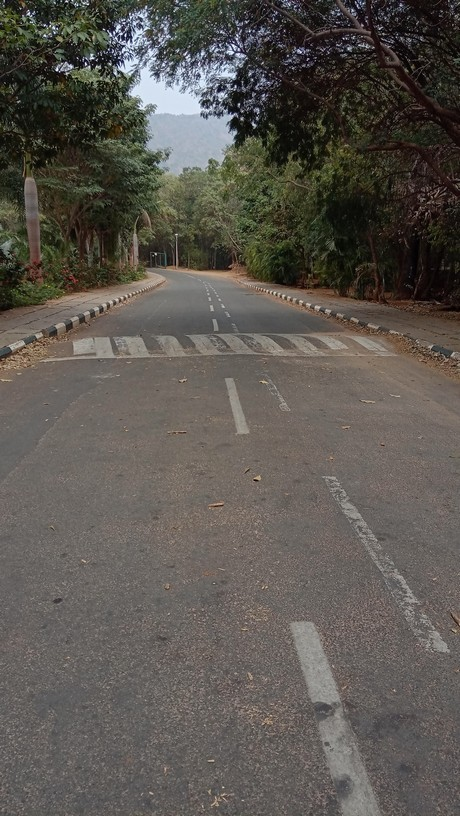bump: (34, 331, 402, 357)
